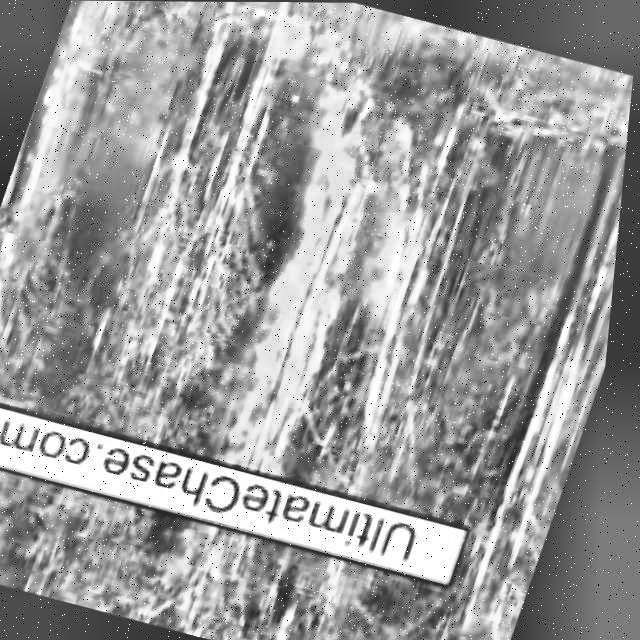Fire: (194, 138, 394, 468), (236, 1, 417, 143), (167, 515, 249, 620)
